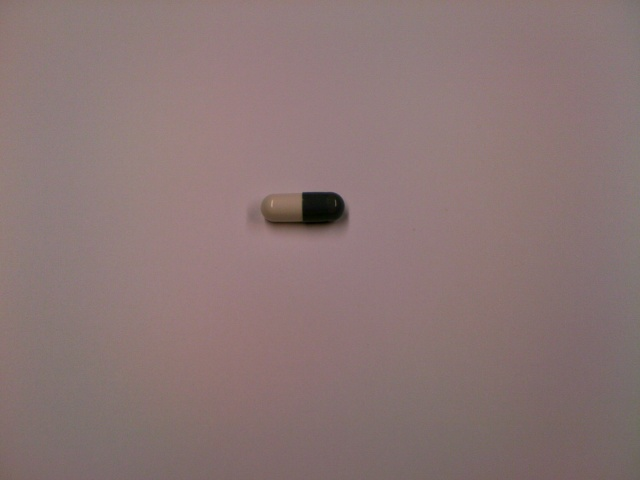capsule: (261, 190, 345, 226)
